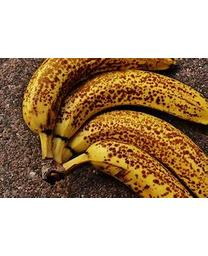banana: (24, 58, 207, 197)
